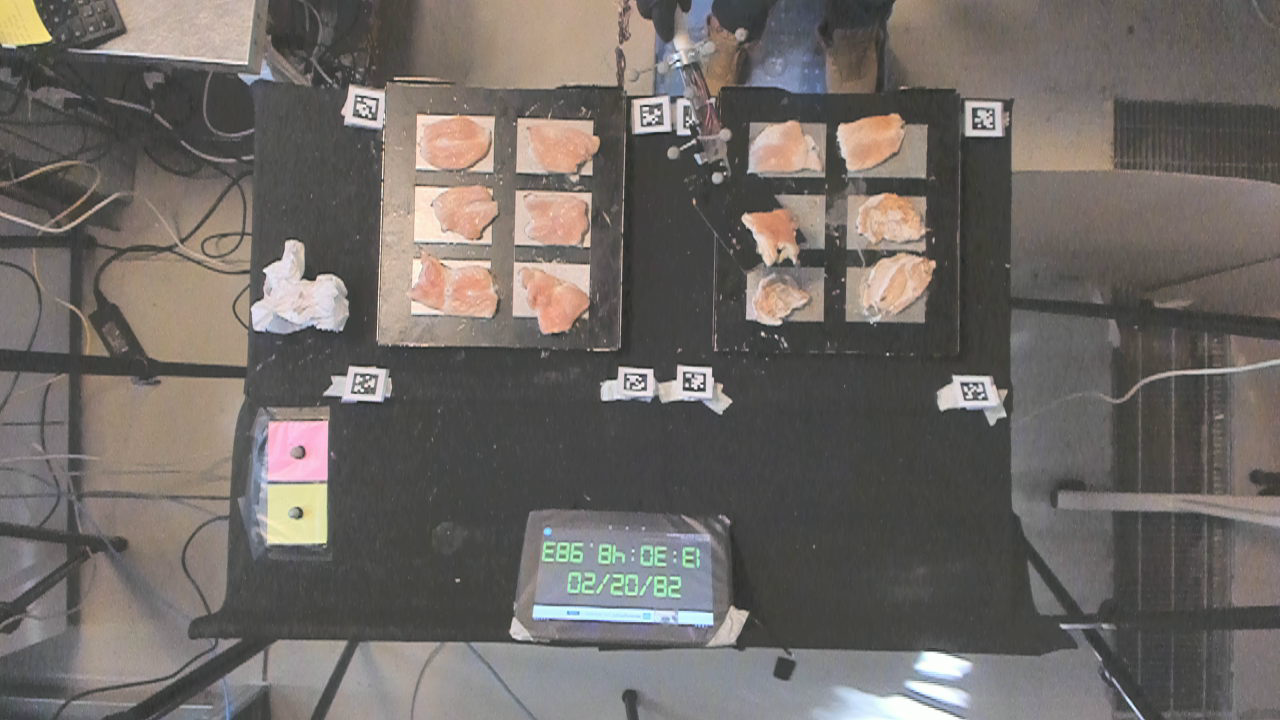chicken: (415, 250, 496, 318), (521, 267, 592, 336), (420, 115, 492, 173), (747, 121, 820, 174), (837, 115, 907, 170), (433, 185, 499, 241), (527, 121, 599, 172), (870, 255, 932, 313), (746, 206, 806, 264), (522, 193, 587, 246), (858, 193, 924, 241), (746, 277, 809, 325)
marker: (268, 420, 326, 480)
